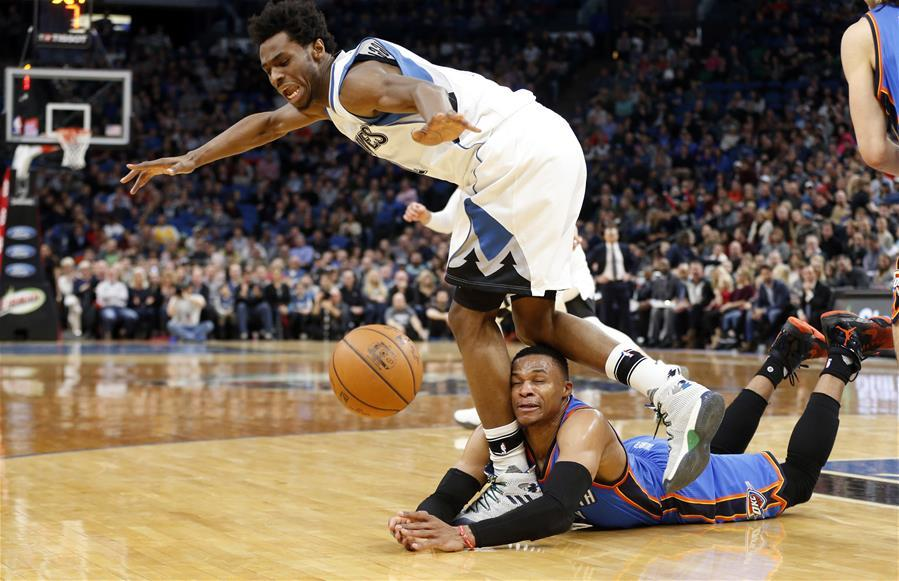bending: (122, 1, 713, 529)
down: (378, 295, 899, 564)
